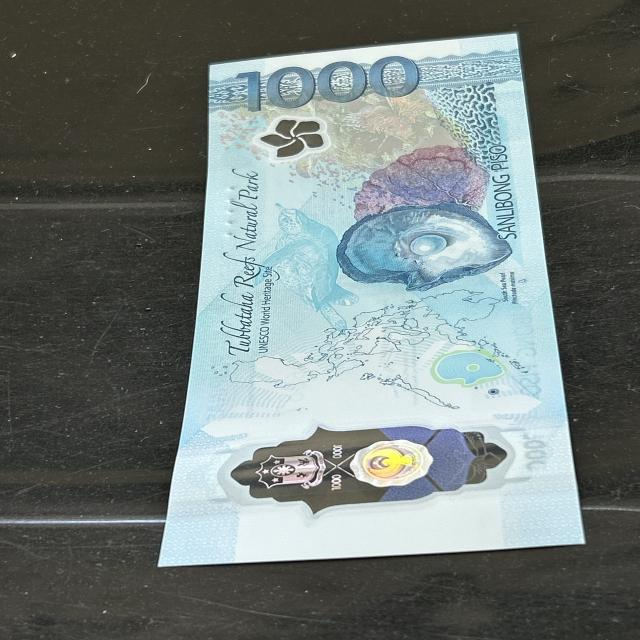clear_window: (231, 421, 512, 513)
sampaguita: (256, 113, 342, 164)
value: (224, 60, 452, 106)
